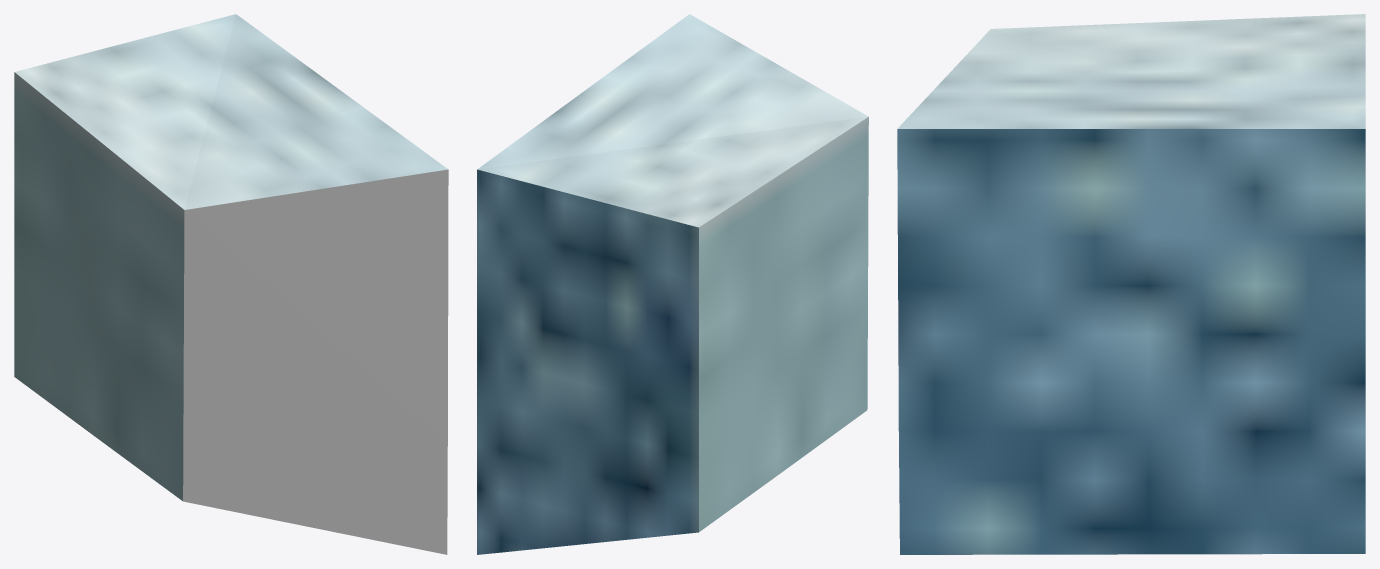
3 renders of one model, left to right at view 1: azimuth 30°, elevation 25°; view 2: azimuth 150°, elevation 25°; view 3: azimuth 270°, elevation 25°, orthographic. The views are drawn at different scales.
Parts seen in each view (by area): view 1: Cube_cell.001_Mesh.001; view 2: Cube_cell.001_Mesh.001; view 3: Cube_cell.001_Mesh.001.
Part boxes in pixels (x1=…): Cube_cell.001_Mesh.001: x1=14, y1=14, x2=448, y2=554; Cube_cell.001_Mesh.001: x1=477, y1=14, x2=868, y2=554; Cube_cell.001_Mesh.001: x1=897, y1=14, x2=1365, y2=554.
Bounding box in the file's own units: 0.0832 × 0.1385 × 0.138.
